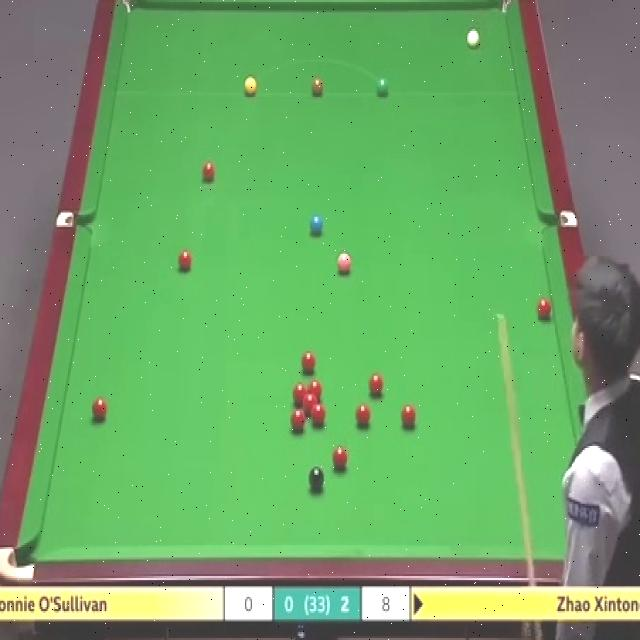black-ball: (308, 465, 324, 492)
blue-ball: (310, 212, 324, 238)
brown-ball: (310, 76, 324, 96)
green-ball: (376, 77, 390, 96)
pink-ball: (336, 252, 352, 275)
red-ball: (398, 403, 418, 431), (354, 402, 372, 432), (367, 370, 384, 400), (91, 396, 108, 423), (333, 443, 348, 473), (290, 409, 306, 434), (307, 378, 323, 402), (301, 352, 317, 376), (537, 297, 551, 323), (293, 382, 308, 406), (311, 402, 325, 427), (179, 248, 192, 274), (304, 394, 318, 415), (202, 162, 216, 182)
white-ball: (468, 28, 480, 51)
yellow-ball: (244, 76, 258, 96)
